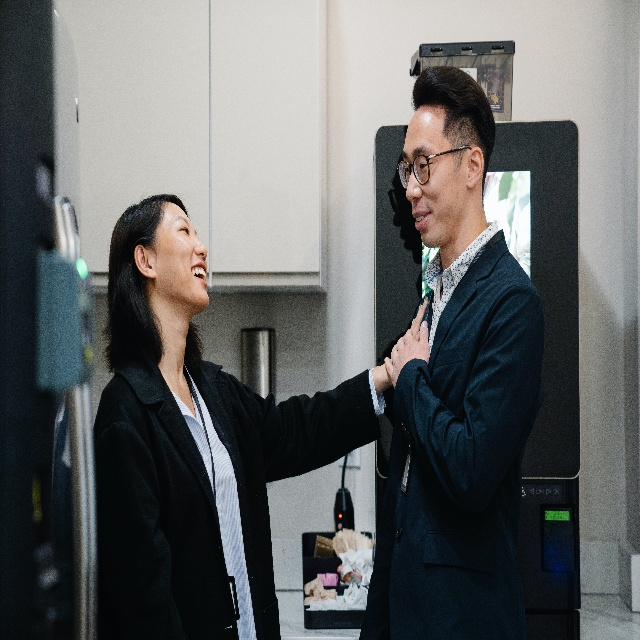Gafas: (396, 152, 438, 188)
Sin_guantes: (384, 291, 429, 375), (388, 323, 429, 387)
